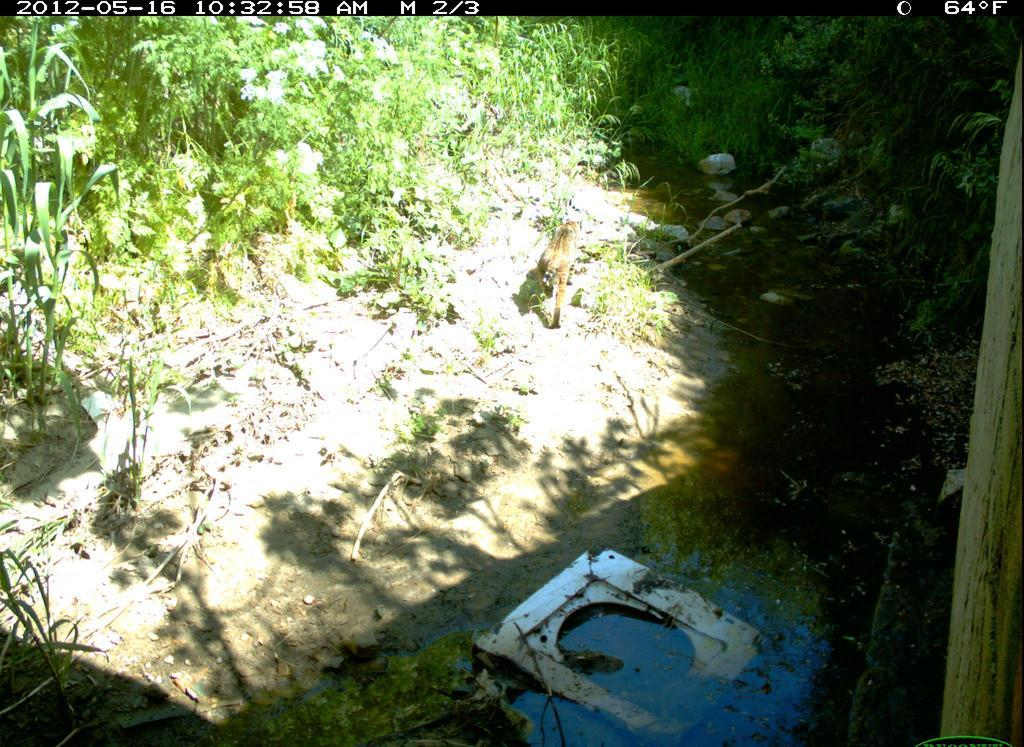bobcat: (532, 214, 598, 346)
